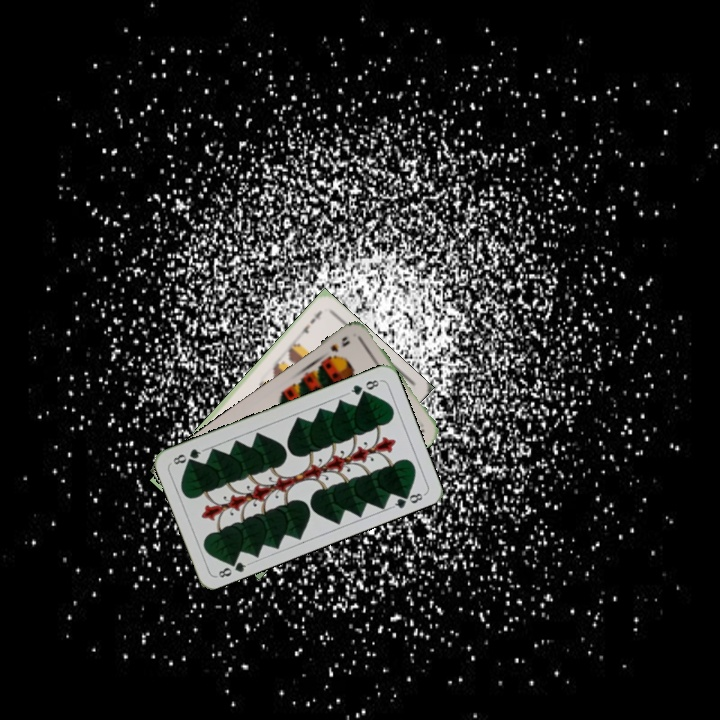E7: (294, 306, 325, 340)
G8: (213, 554, 252, 581), (344, 375, 383, 398)
S9: (321, 332, 352, 363)
